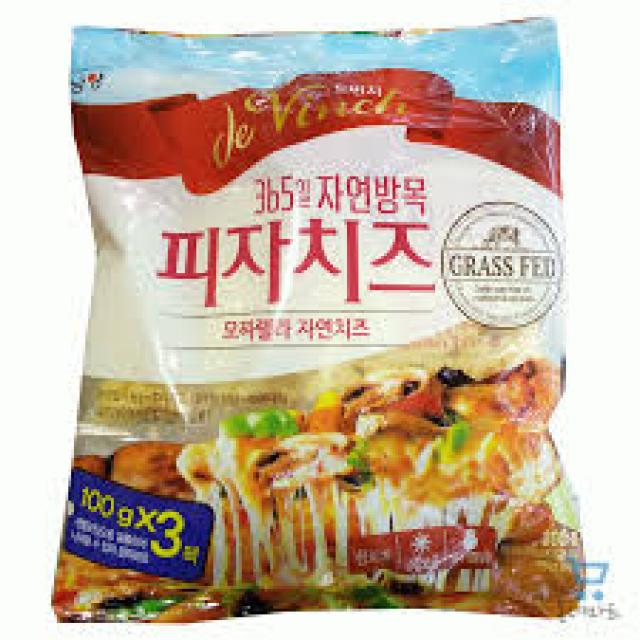cheese: (63, 26, 583, 614)
